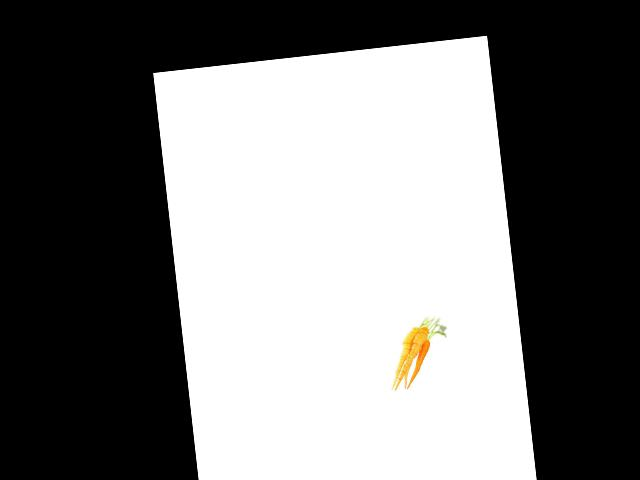carrot: (383, 323, 426, 390)
